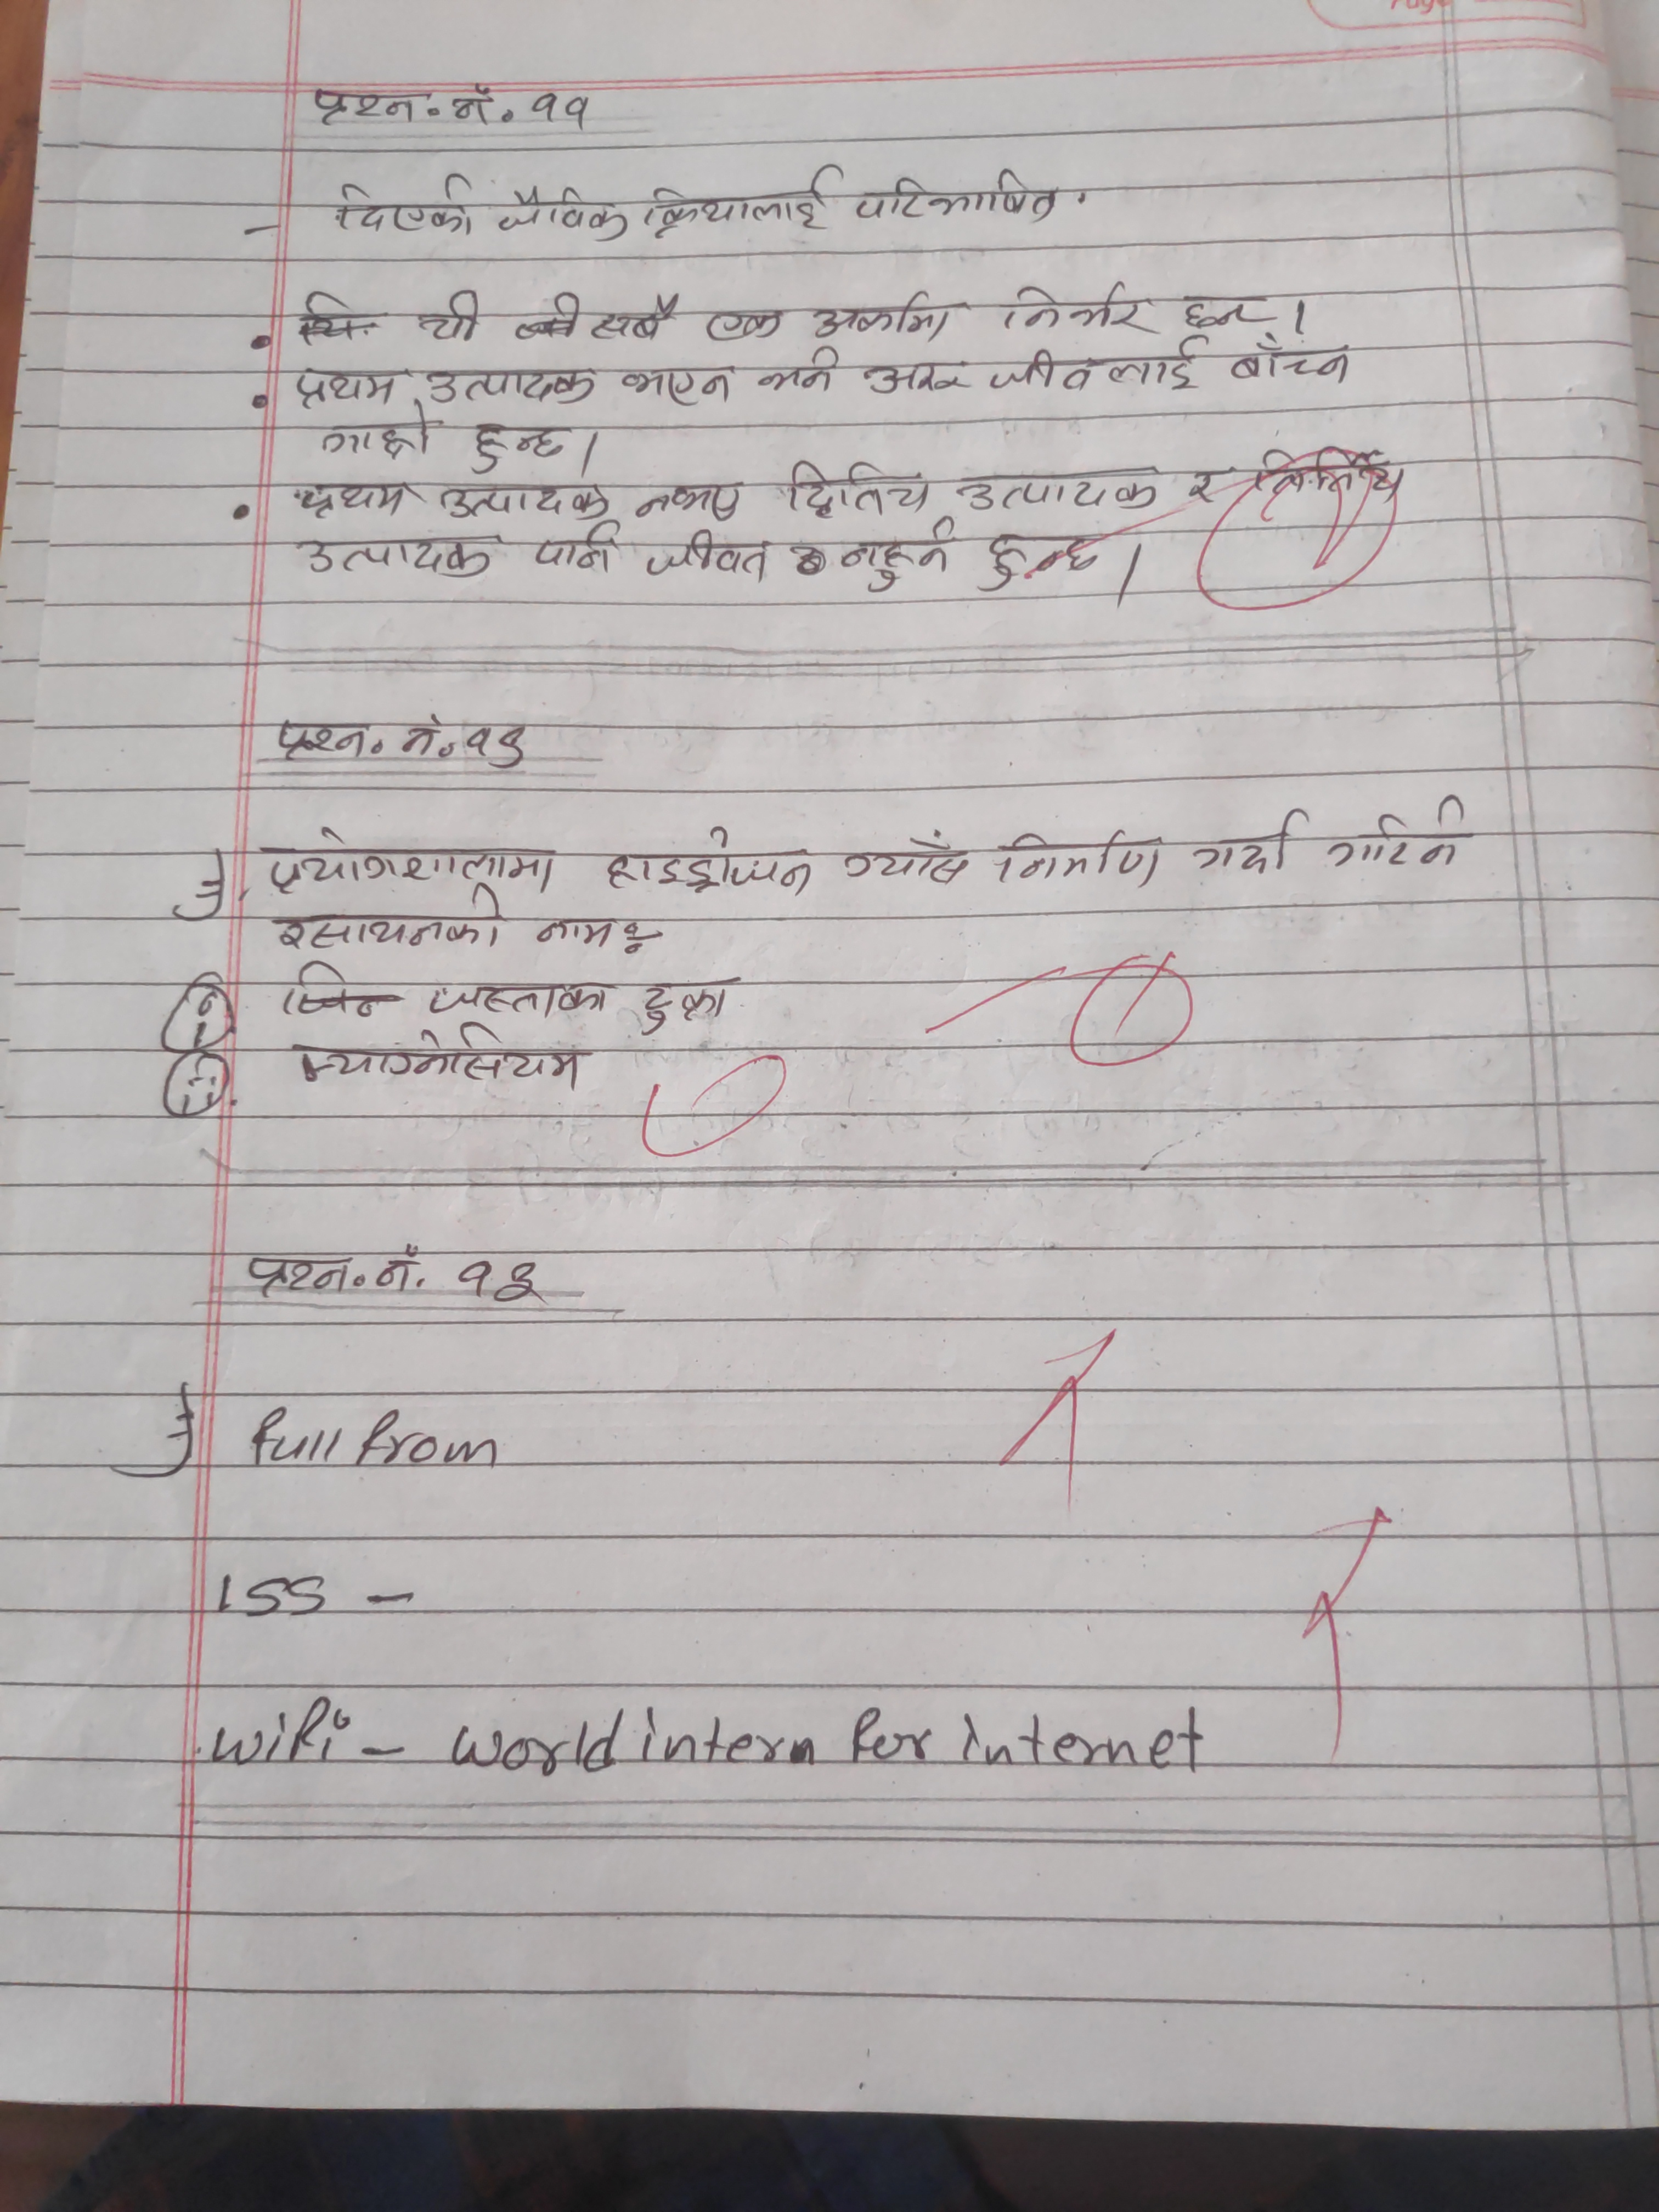text: (291, 1021, 596, 1099), (861, 336, 1209, 401), (251, 820, 566, 890), (596, 822, 819, 902), (641, 160, 840, 239), (847, 167, 1077, 232), (270, 890, 509, 951), (1323, 792, 1483, 874), (993, 822, 1169, 888), (1000, 275, 1161, 341), (335, 165, 477, 239), (953, 463, 1164, 512), (782, 455, 939, 519), (807, 284, 965, 347), (296, 531, 493, 580), (490, 178, 633, 244), (420, 361, 606, 409), (1190, 803, 1309, 878), (432, 474, 615, 519), (242, 1237, 361, 1306), (422, 977, 617, 1019), (842, 829, 972, 888), (638, 965, 739, 1040), (645, 528, 772, 587), (981, 529, 1108, 589), (831, 536, 957, 594), (612, 359, 734, 416), (1223, 341, 1359, 392), (465, 413, 565, 479), (303, 78, 430, 129), (289, 364, 408, 418), (317, 415, 437, 467), (751, 343, 845, 406), (291, 474, 420, 519), (267, 712, 371, 768), (633, 477, 748, 526), (1180, 280, 1272, 336), (530, 524, 627, 575), (592, 293, 676, 347), (528, 906, 622, 953), (460, 1259, 551, 1308), (413, 286, 490, 343), (464, 712, 532, 773), (376, 1237, 430, 1299), (702, 307, 784, 345), (526, 89, 599, 129), (444, 78, 491, 136), (1183, 458, 1230, 509), (394, 716, 443, 761)
